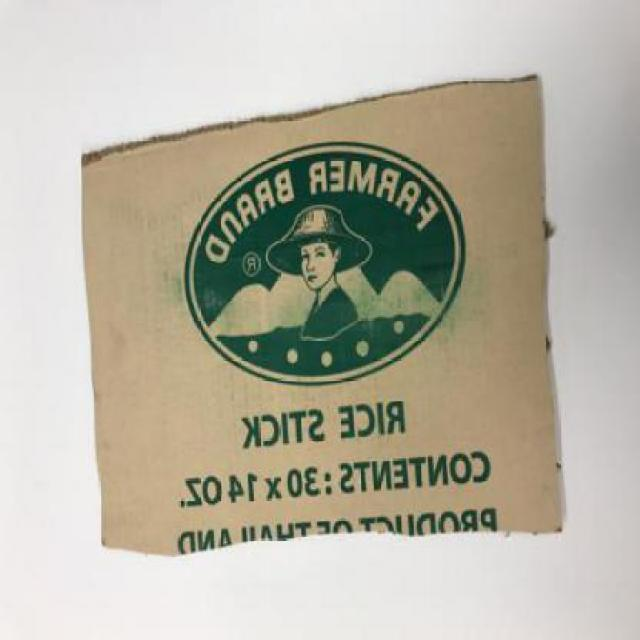box: (80, 80, 563, 557)
